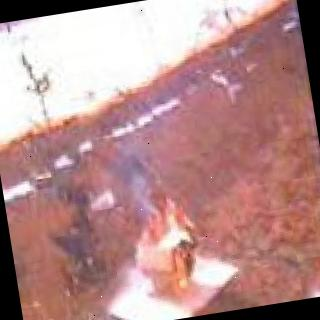fire: (118, 152, 209, 316)
